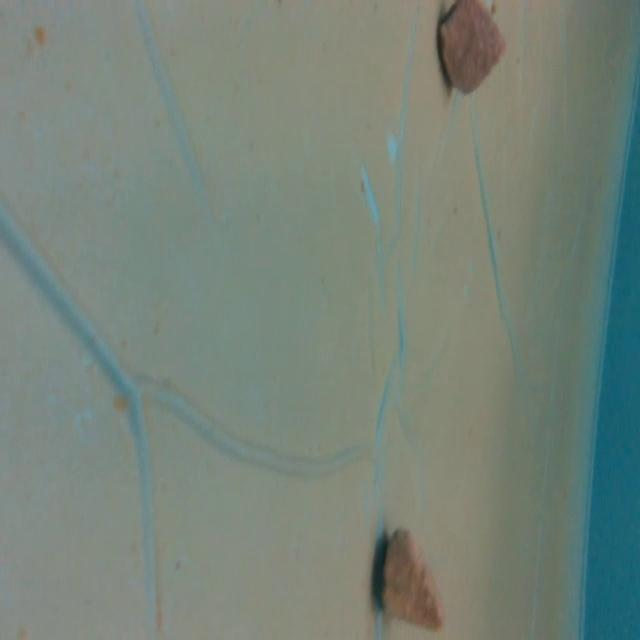rock: (374, 516, 450, 636), (427, 0, 509, 101)
